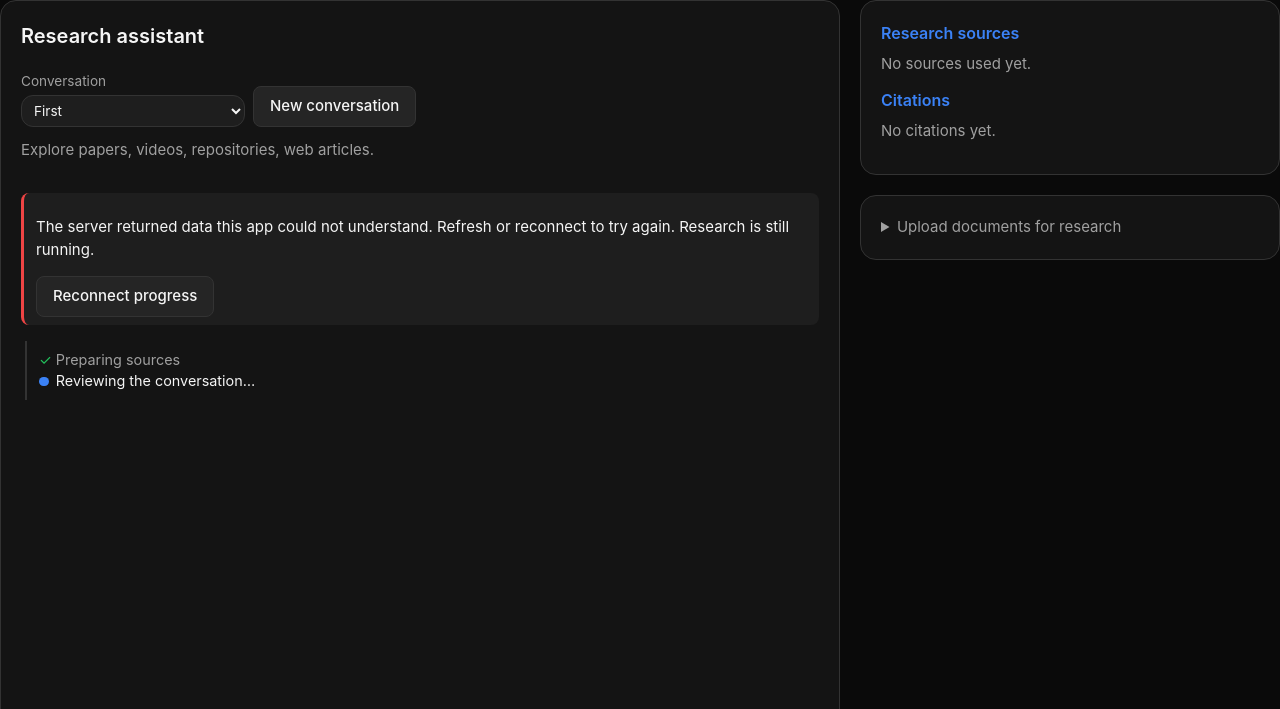
Scenario: conversation views › recovers from an invalid event through an explicit reconnect at the consumed cursor
What coordinates should you click on to do the following:
click the button "Reconnect progress"
I would click on:
 (125, 296)
Its box is 36,276 -> 214,317.
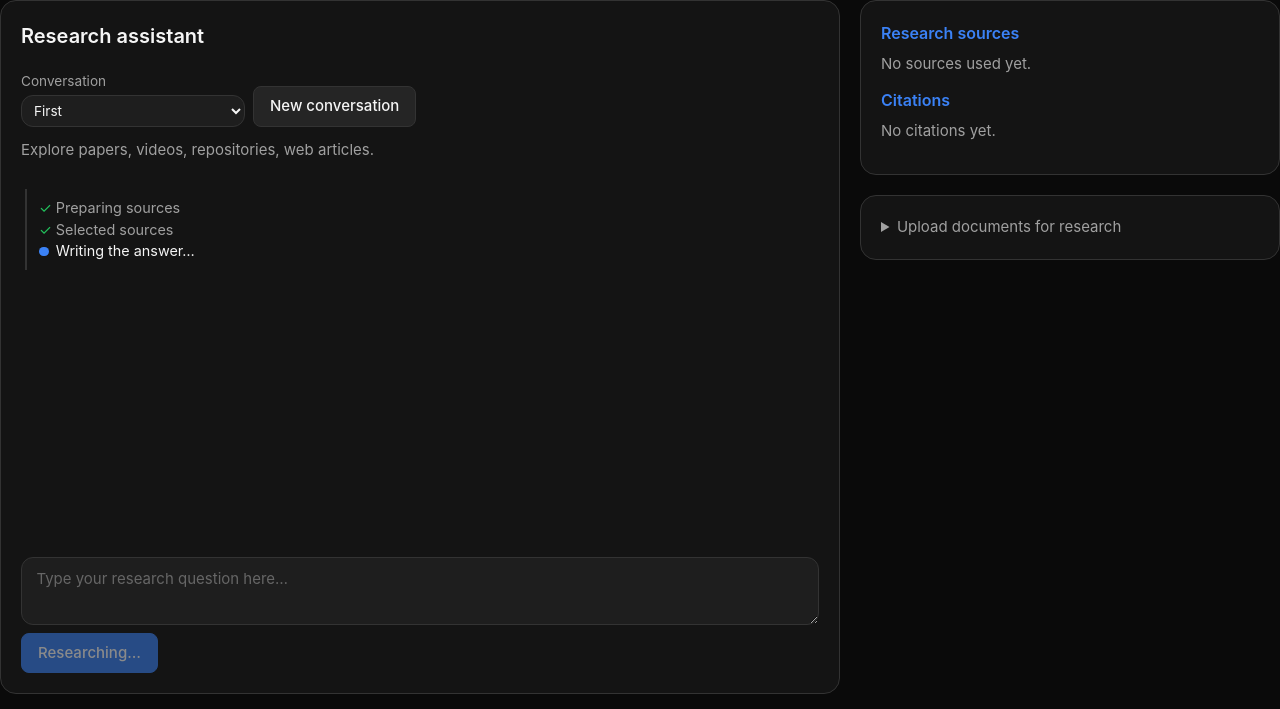
expect the button "Researching…" is disabled: met, box 21,633 -> 158,673
expect the button "Reconnect progress" is gone: met
